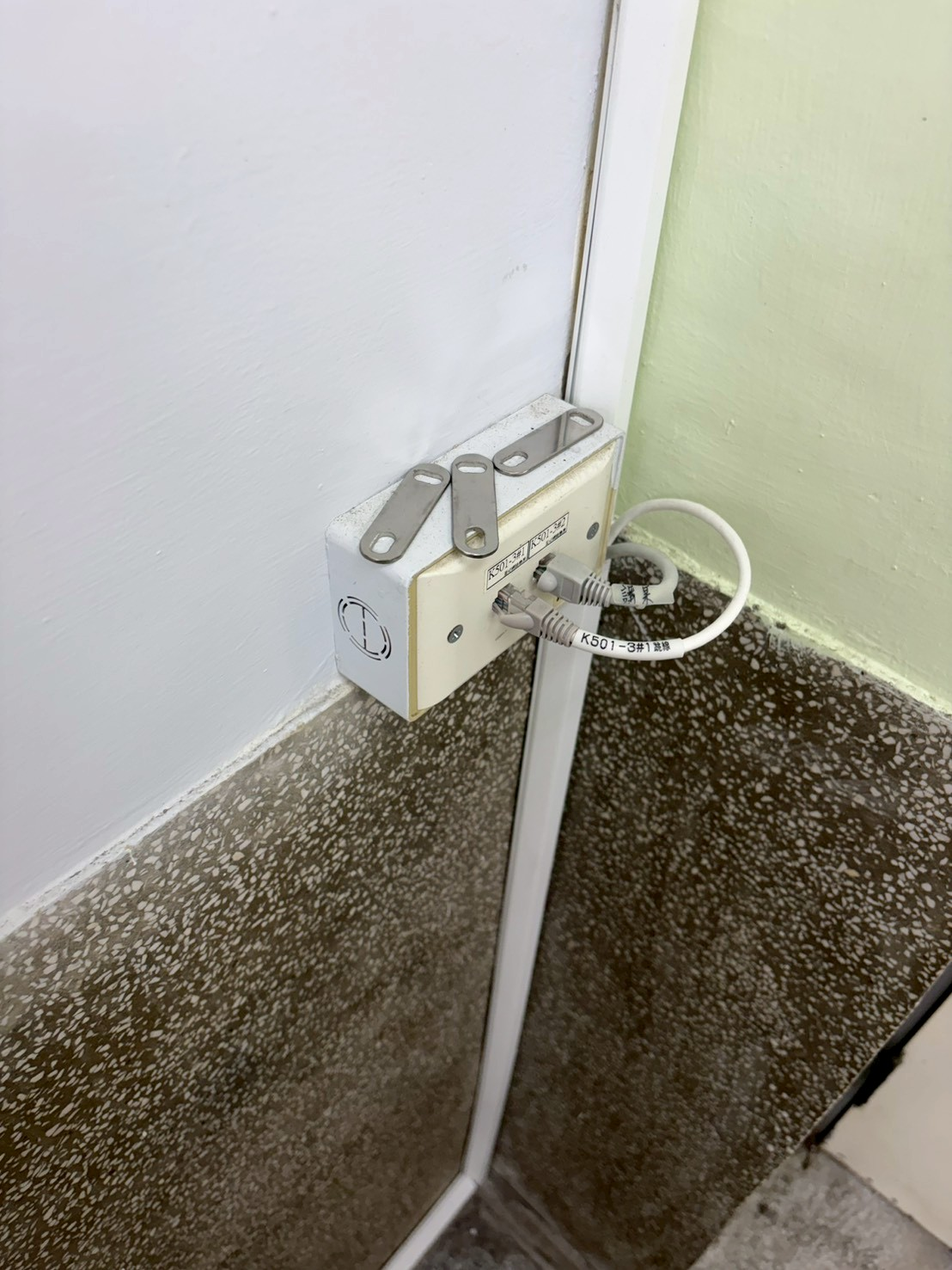Fe: (490, 393, 614, 478), (441, 441, 510, 556), (359, 450, 430, 560)
